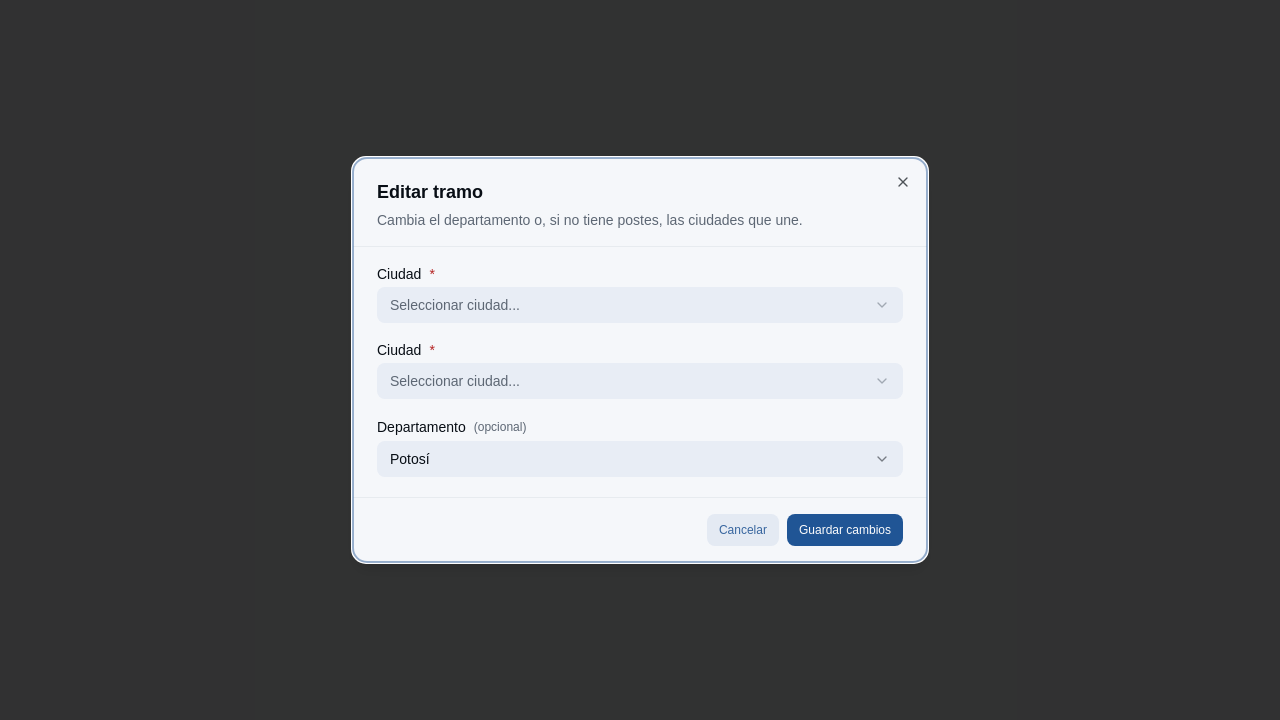
Scenario: the tramo dialog › asks for two different cities before it sends anything
This screenshot has width=1280, height=720.
Click the button "Guardar cambios".
click(845, 530)  # box [787,514,903,546]
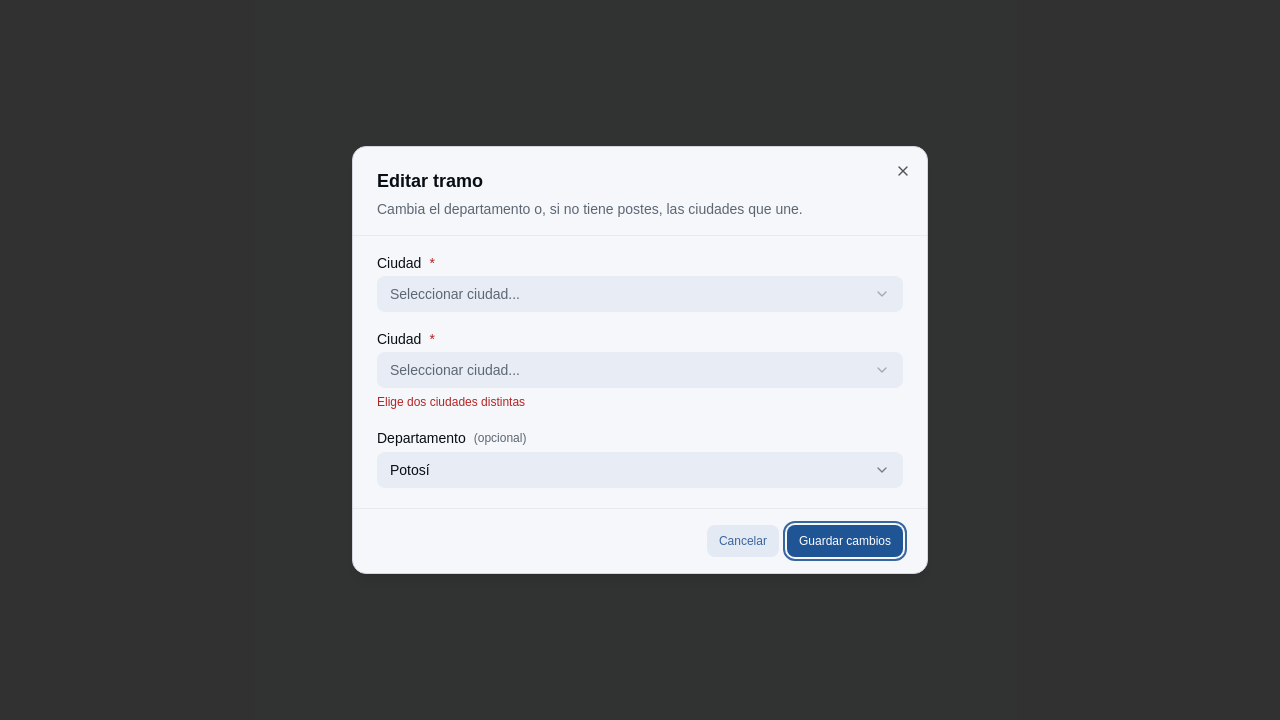
Expected: the text "Elige dos ciudades distintas" is shown, [377,395,525,409]
